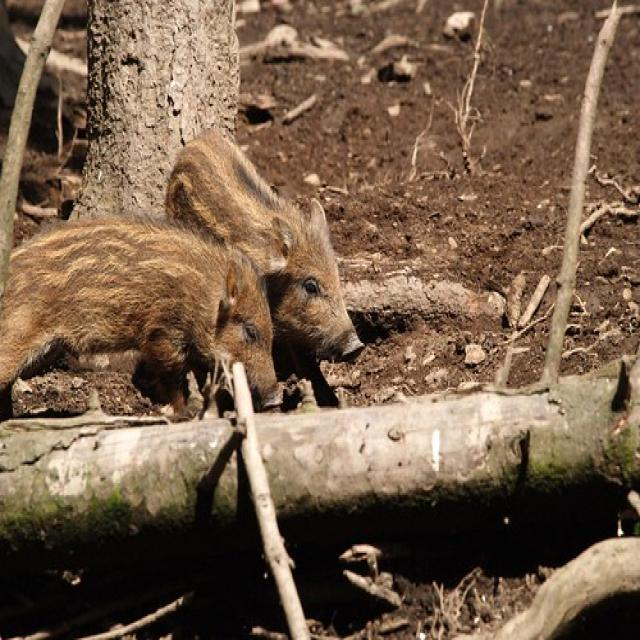boar: (0, 218, 288, 431), (154, 119, 368, 400)
